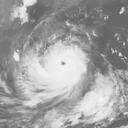cyclone: (33, 41, 89, 91)
